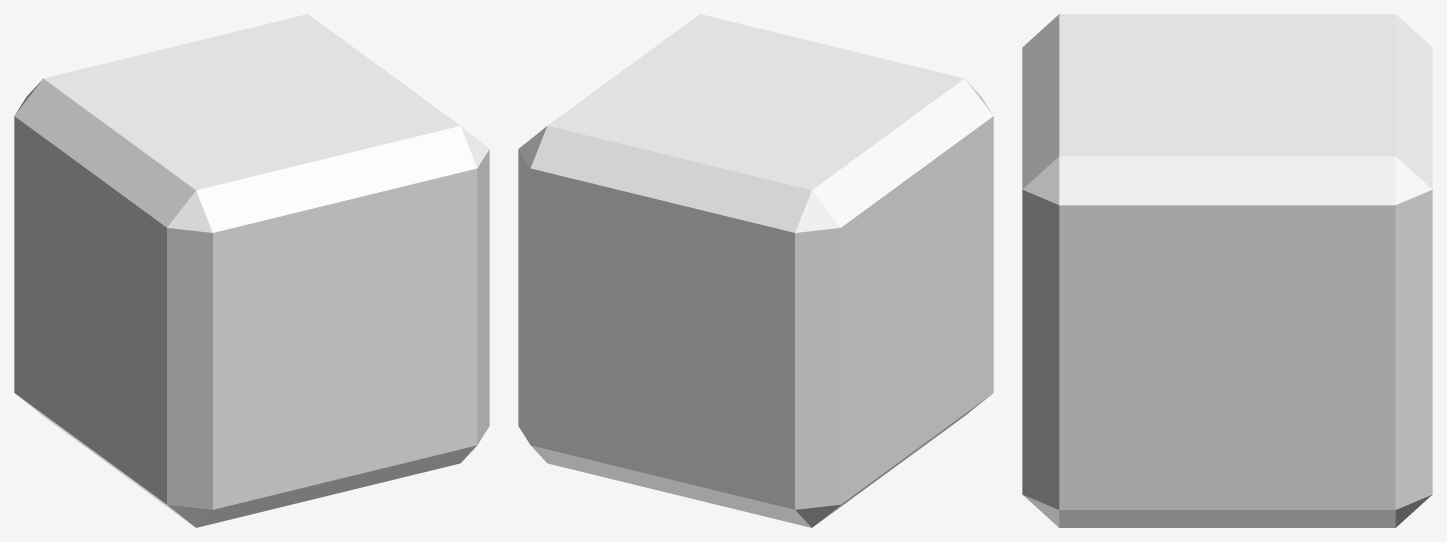
Rendered from blockBevel.obj.
3 views of the same model, side by side, from view 1: azimuth 30°, elevation 25°; view 2: azimuth 150°, elevation 25°; view 3: azimuth 270°, elevation 25° (orthographic). The views are drawn at different scales.
Visible parts, largest first — view 1: BevelBlock; view 2: BevelBlock; view 3: BevelBlock.
Boxes of the visible parts, x1,y1,x2,y2 form: BevelBlock: [14, 14, 489, 527]; BevelBlock: [518, 14, 993, 527]; BevelBlock: [1022, 14, 1432, 527].
Bounding box in the file's own units: 2 × 2 × 2.
1 material, 1 textured.
